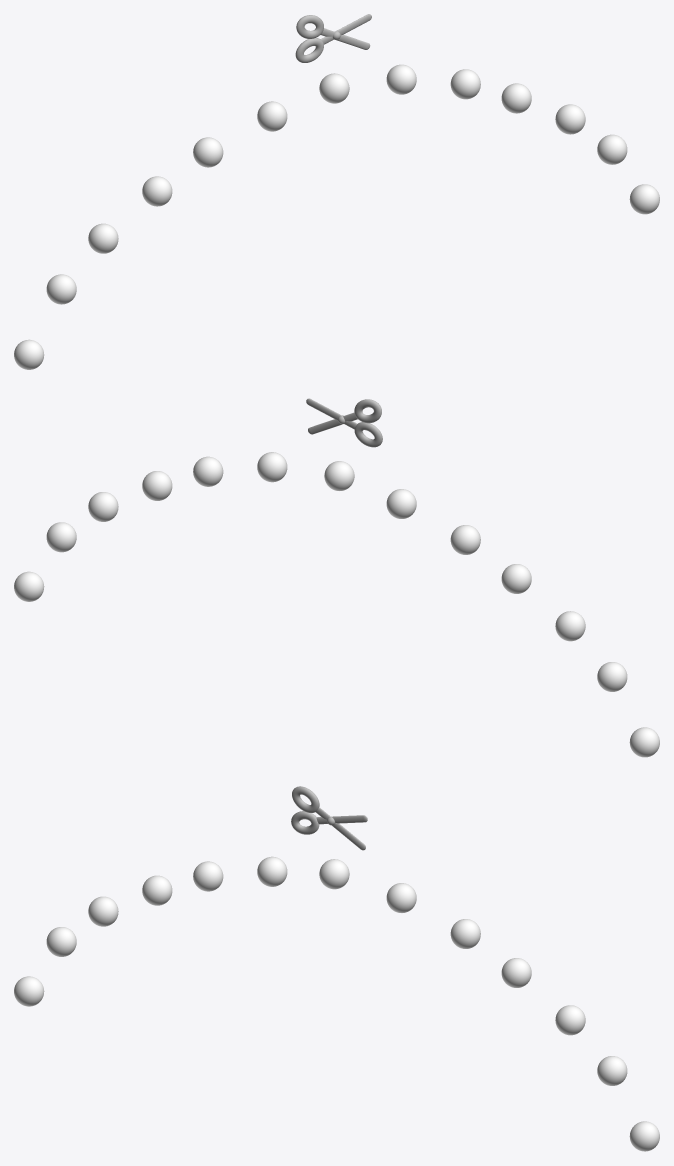
Rendered from connected_new_scisspr.fbx.
3 views of the same model, one above another, from view 1: azimuth 30°, elevation 25°; view 2: azimuth 150°, elevation 25°; view 3: azimuth 330°, elevation 25° (orthographic).
Parts seen in each view (by area): view 1: root (×13); view 2: root (×13); view 3: root (×13).
Part boxes in pixels (bbox=[...]): root (×13): bbox=[14, 64, 659, 369]; root (×13): bbox=[14, 452, 659, 757]; root (×13): bbox=[14, 856, 659, 1151].
Bounding box in the file's own units: 0.6129 × 0.262 × 0.025.
18 materials, 13 textured.
